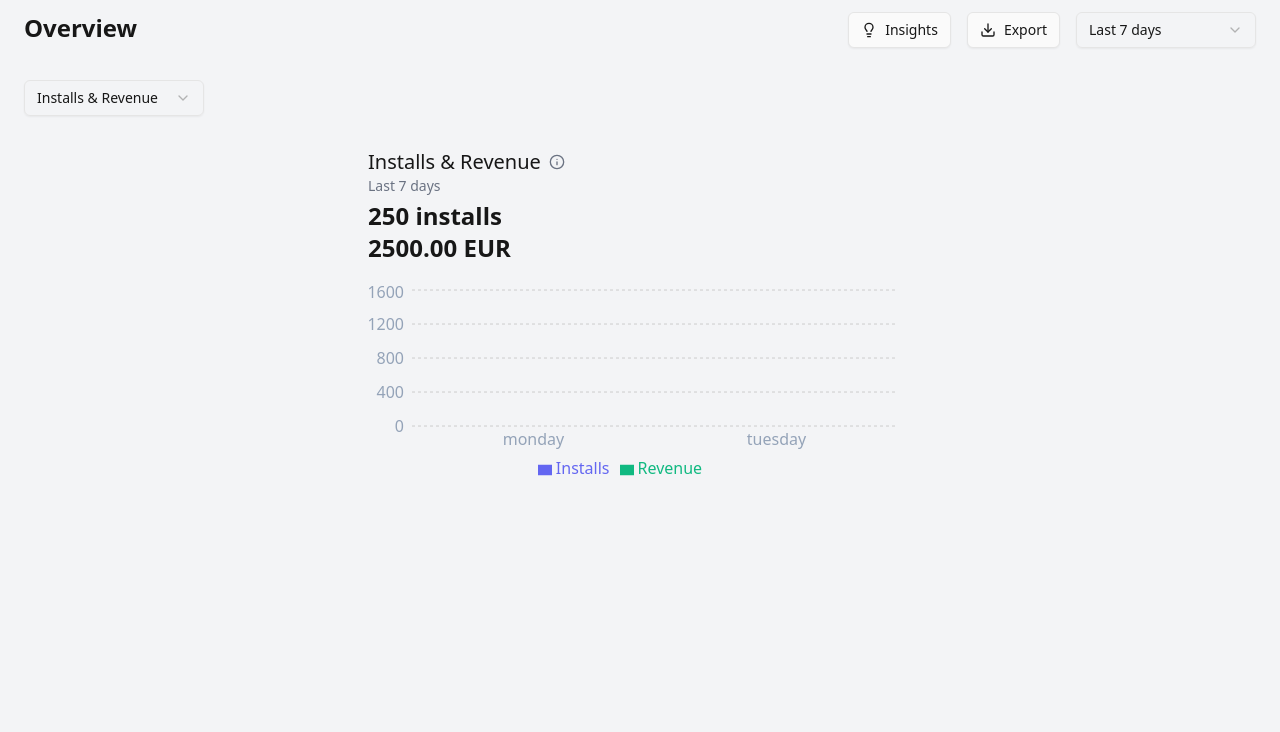
Test: Overview › should toggle insights when clicking the insight button
The width and height of the screenshot is (1280, 732).
Step 1. Click the button "Insights" → (900, 30), box [848,12,951,48]
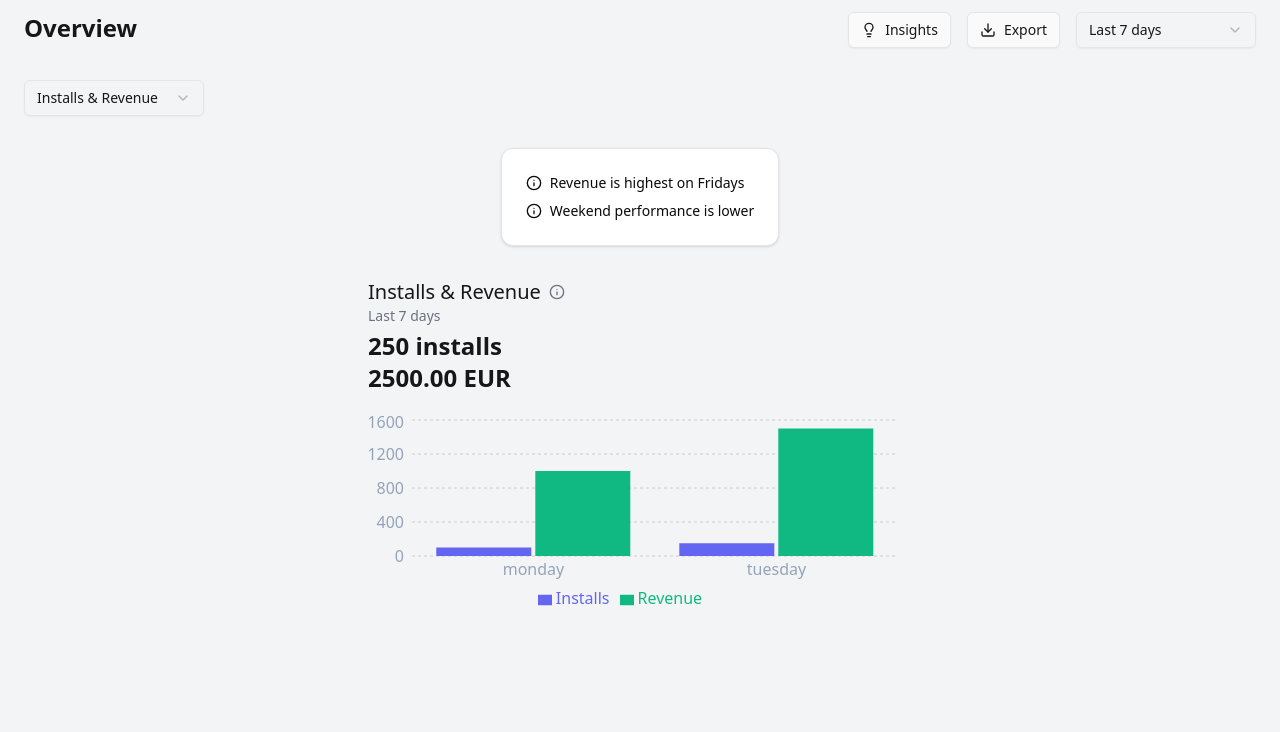
Now the list item "Revenue is highest on Fridays" is shown, box [526,173,754,193]
Now the list item "Weekend performance is lower" is shown, box [526,201,754,221]
